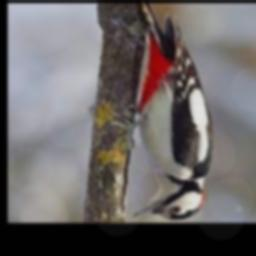Woodpecker: (117, 3, 214, 220)
